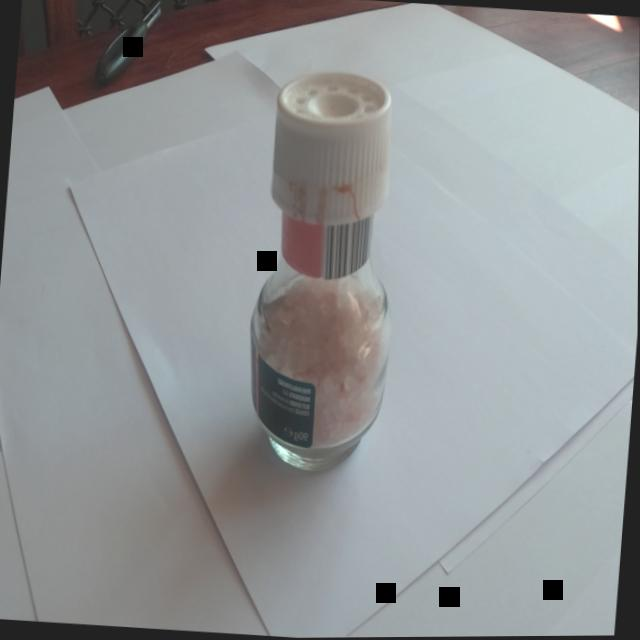Salt: (233, 61, 417, 493)
